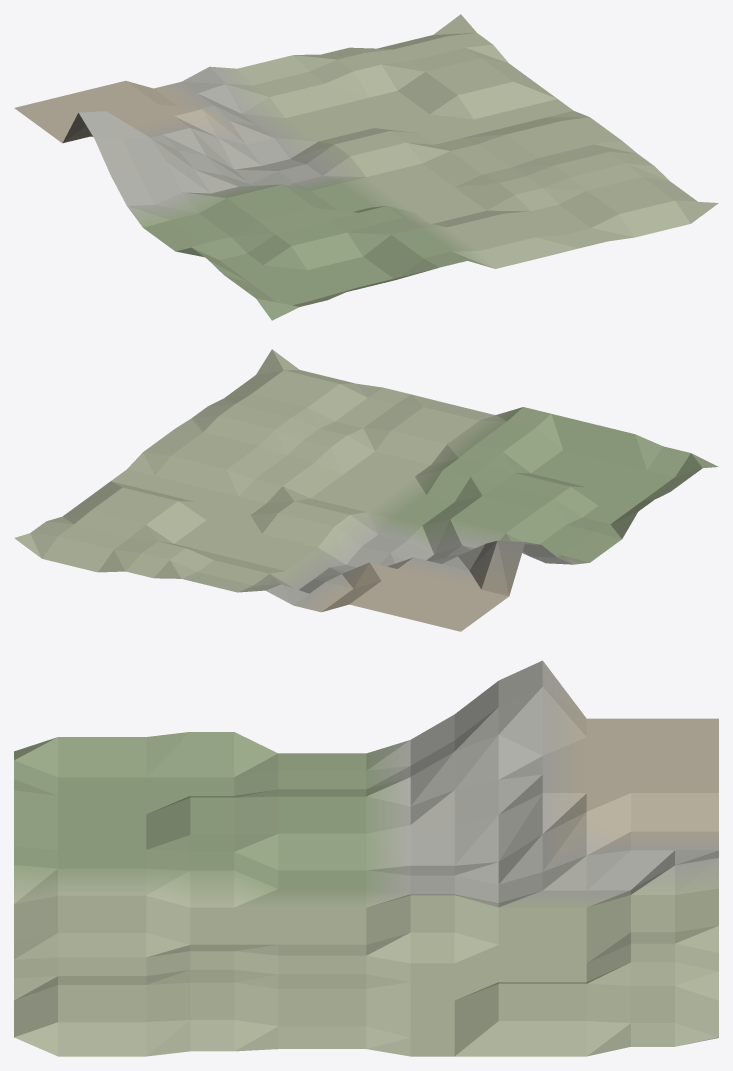
3 renders of one model, top to bottom at view 1: azimuth 30°, elevation 25°; view 2: azimuth 150°, elevation 25°; view 3: azimuth 270°, elevation 25°, orthographic. The views are drawn at different scales.
Size of the model in its own units: 32 by 5.63 by 32.
